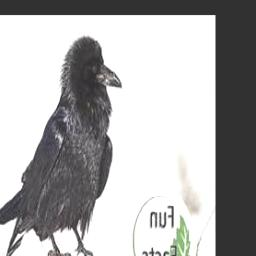Crow: (0, 36, 122, 256)
